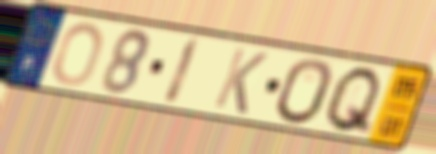8: (99, 27, 152, 97)
I: (160, 34, 204, 109)
K: (210, 44, 271, 117)
O: (273, 56, 336, 127), (51, 21, 106, 89)
Q: (321, 64, 385, 139)
